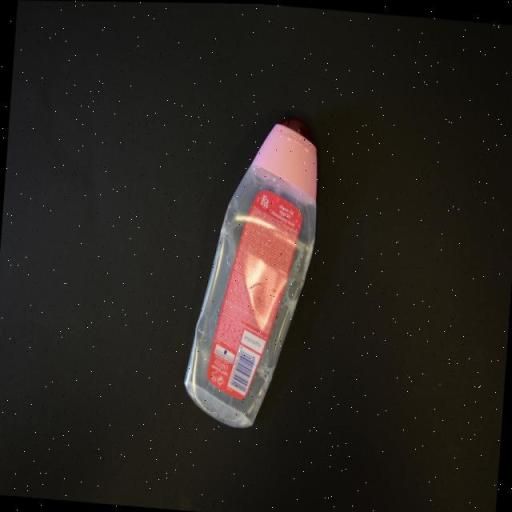plastic: (180, 104, 324, 432)
